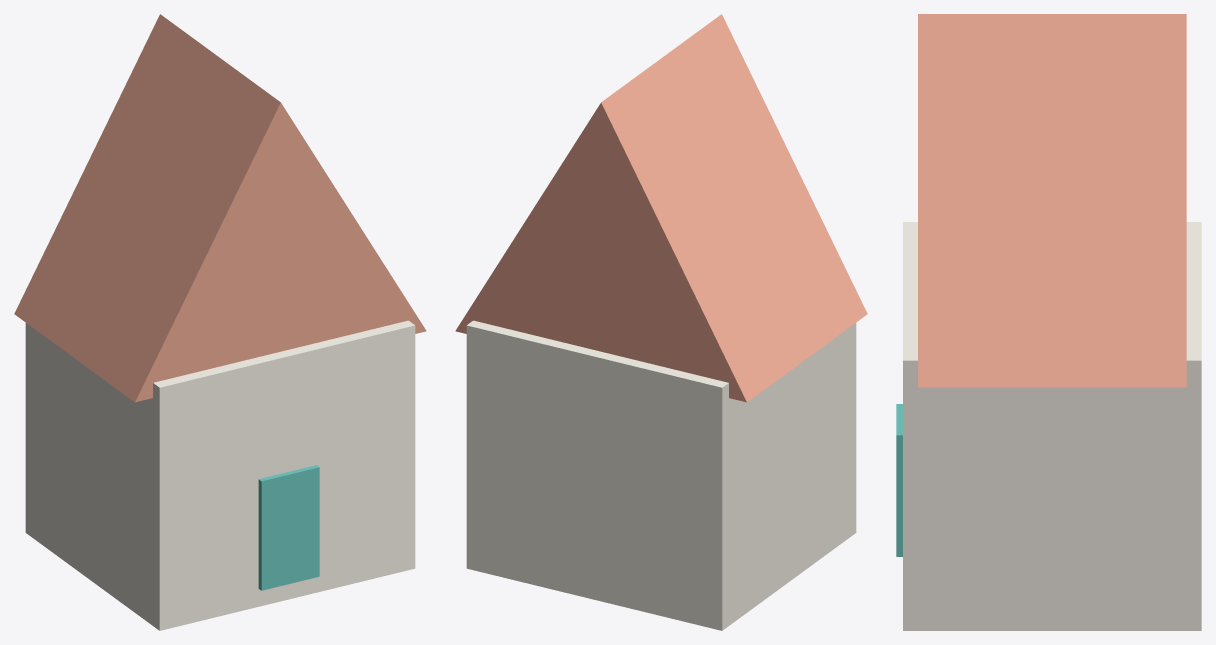
File: low_poly_house.glb
The picture shows the model from 3 angles, left to right: view 1: azimuth 30°, elevation 25°; view 2: azimuth 150°, elevation 25°; view 3: azimuth 270°, elevation 25°; orthographic projection. The views are drawn at different scales.
Visible parts, largest first — view 1: LowPoly_House.001; view 2: LowPoly_House.001; view 3: LowPoly_House.001.
Boxes of the visible parts, box(x1,y1,x2,y2) form: LowPoly_House.001: box(14, 14, 426, 630); LowPoly_House.001: box(455, 14, 867, 630); LowPoly_House.001: box(896, 14, 1201, 630).
Bounding box in the file's own units: 2.51 × 4.05 × 2.04.
